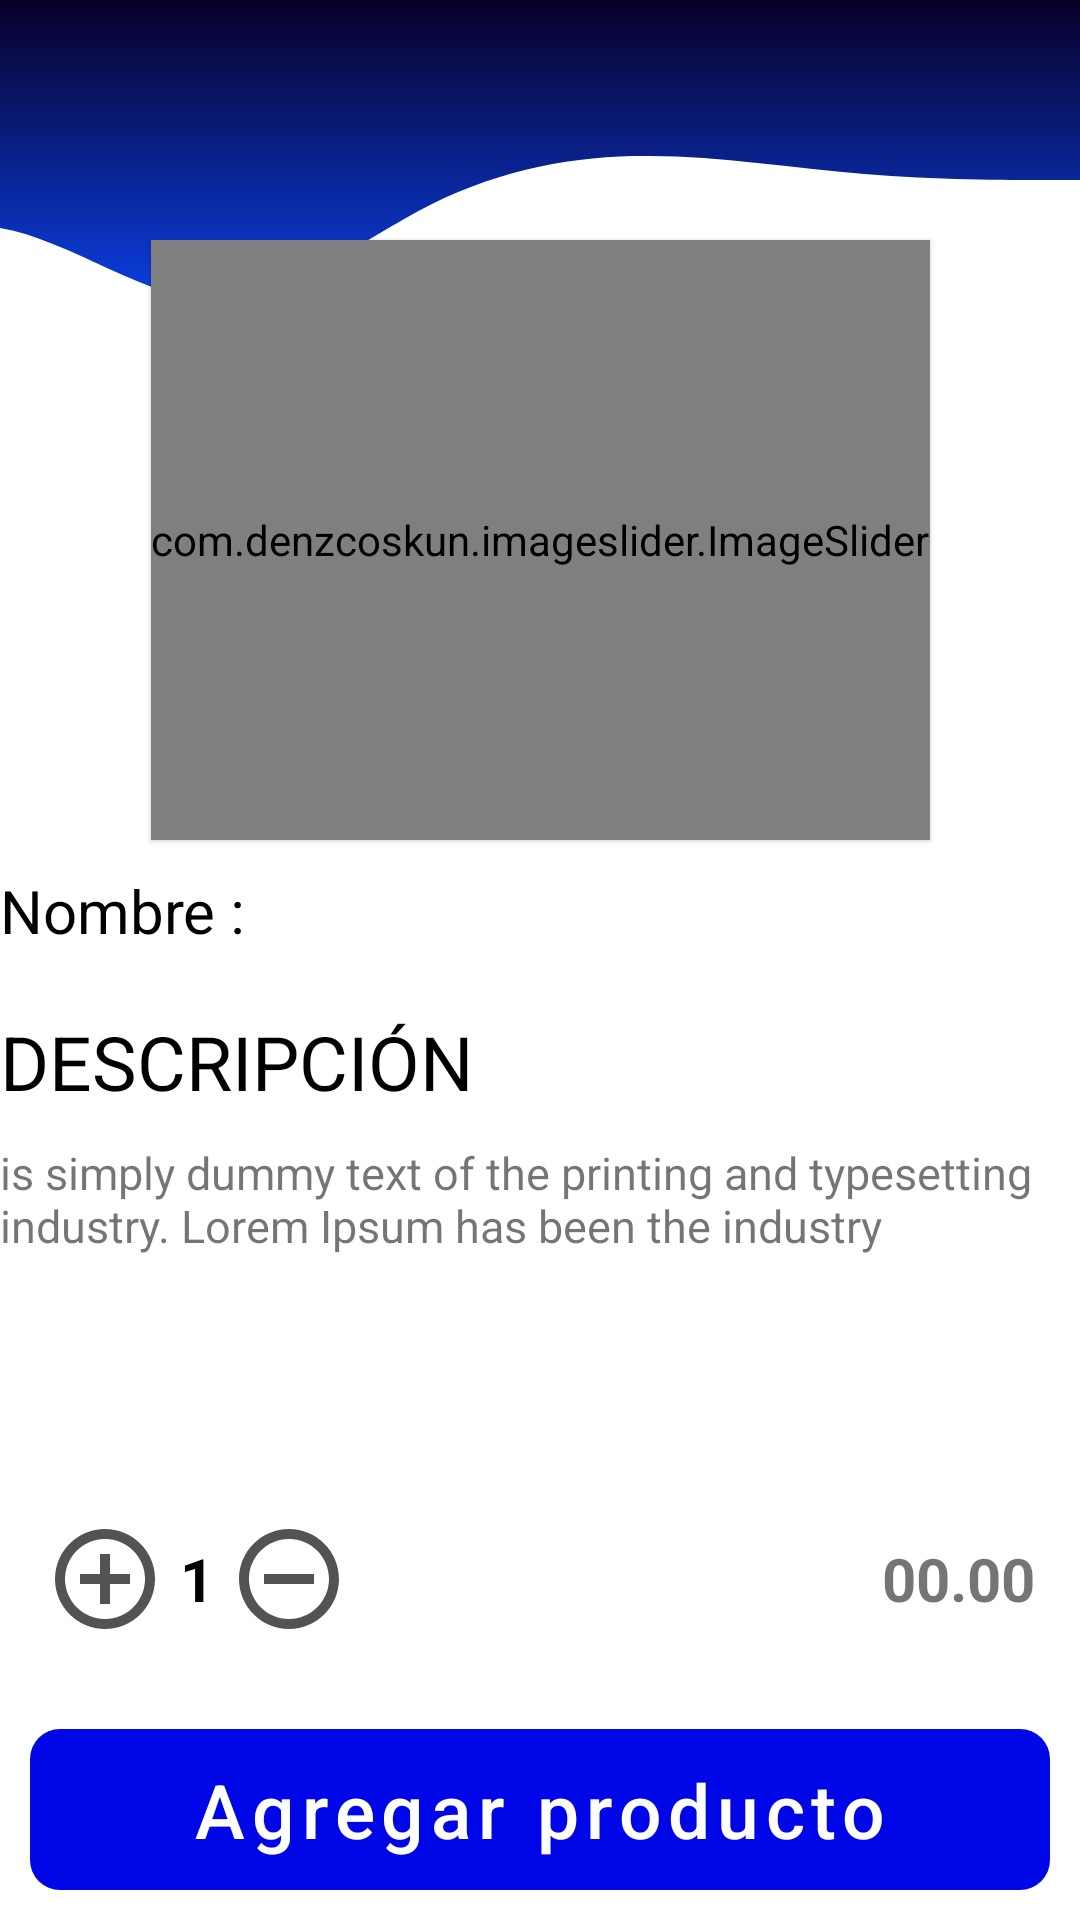

Icons on this 1080*1920 Android screen, each with its box as (x1, y1, x2, y2):
add: (55, 1529, 155, 1629)
remove: (239, 1529, 339, 1629)
